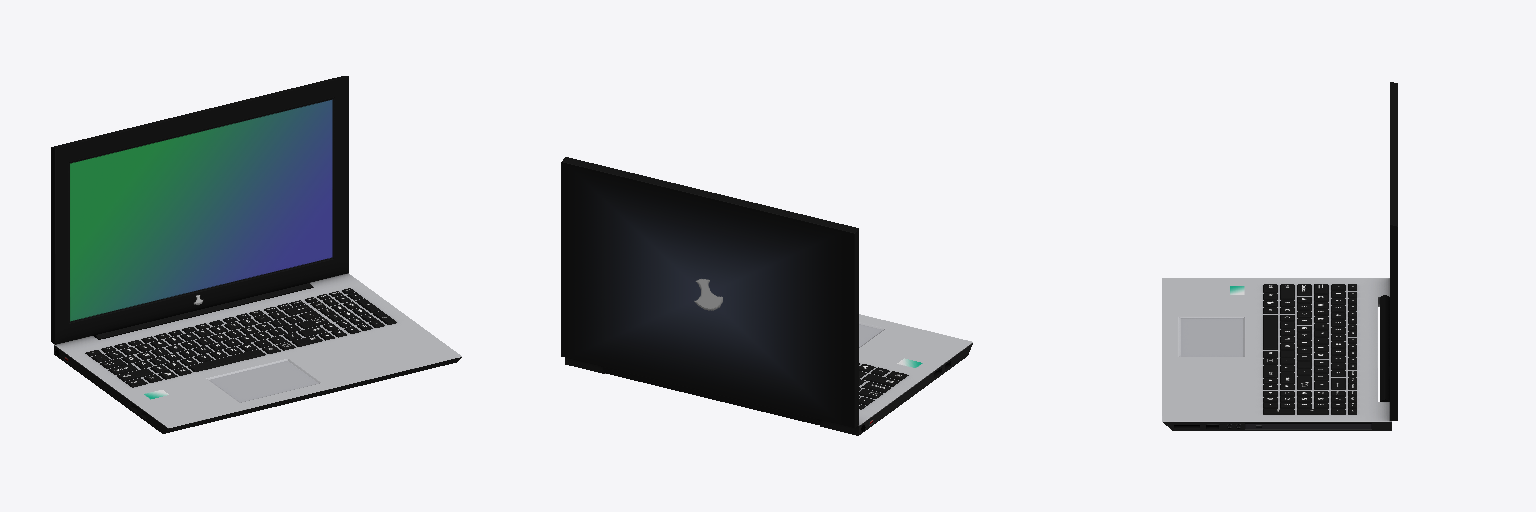
3 renders of one model, left to right at view 1: azimuth 30°, elevation 25°; view 2: azimuth 150°, elevation 25°; view 3: azimuth 270°, elevation 25°, orthographic.
Visible parts, largest first — view 1: Laptop_mesh; view 2: Laptop_mesh; view 3: Laptop_mesh.
Boxes of the visible parts, x1=… form: Laptop_mesh: x1=51, y1=76, x2=461, y2=433; Laptop_mesh: x1=561, y1=157, x2=972, y2=435; Laptop_mesh: x1=1162, y1=82, x2=1397, y2=430.
Size of the model in its own units: 2.87 by 1.92 by 1.99.
1 materials, 1 textured.